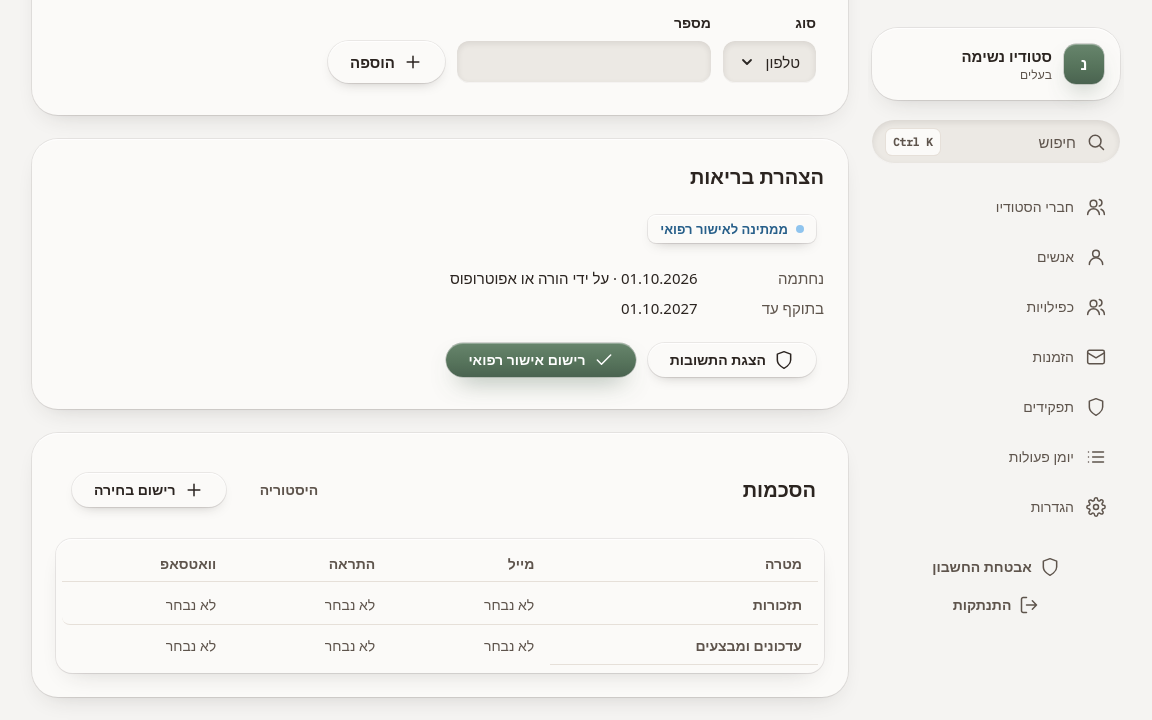
Test: the person card's health declaration (docs/31 sections 5 and 13) › opens the answers only on the click, read-only, and reads them again on every open (each open is audited)
(page scrolled)
Check: the text "ממתינה לאישור רפואי" is shown, box [648,215,816,243]
Check: the element "הצהרת בריאות" shows "על ידי הורה או אפוטרופוס", box [450,268,621,288]
Click the button "הצגת התשובות" at (732, 360), box [648,343,816,377]
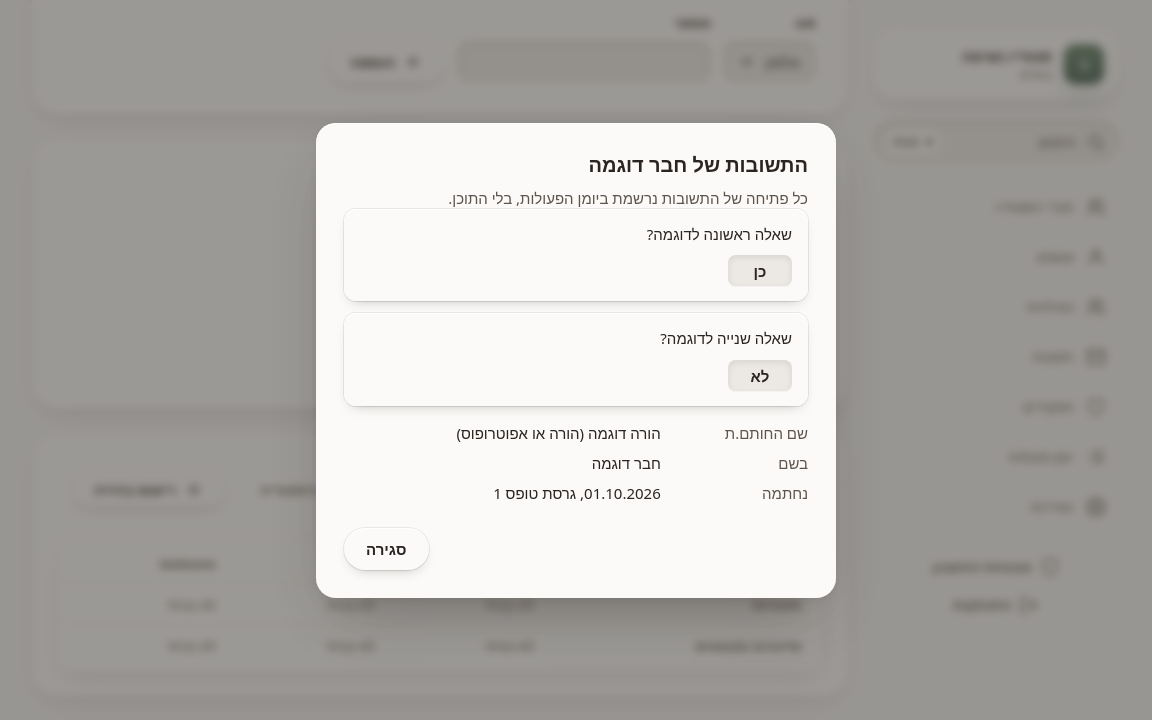
Check: the text "כן" is shown, box [728,255,792,287]
Check: the dialog "התשובות של חבר דוגמה" shows "הורה דוגמה (הורה או אפוטרופוס)", box [316,122,836,598]
Click the button "סגירה" at (386, 548), box [344,528,428,570]
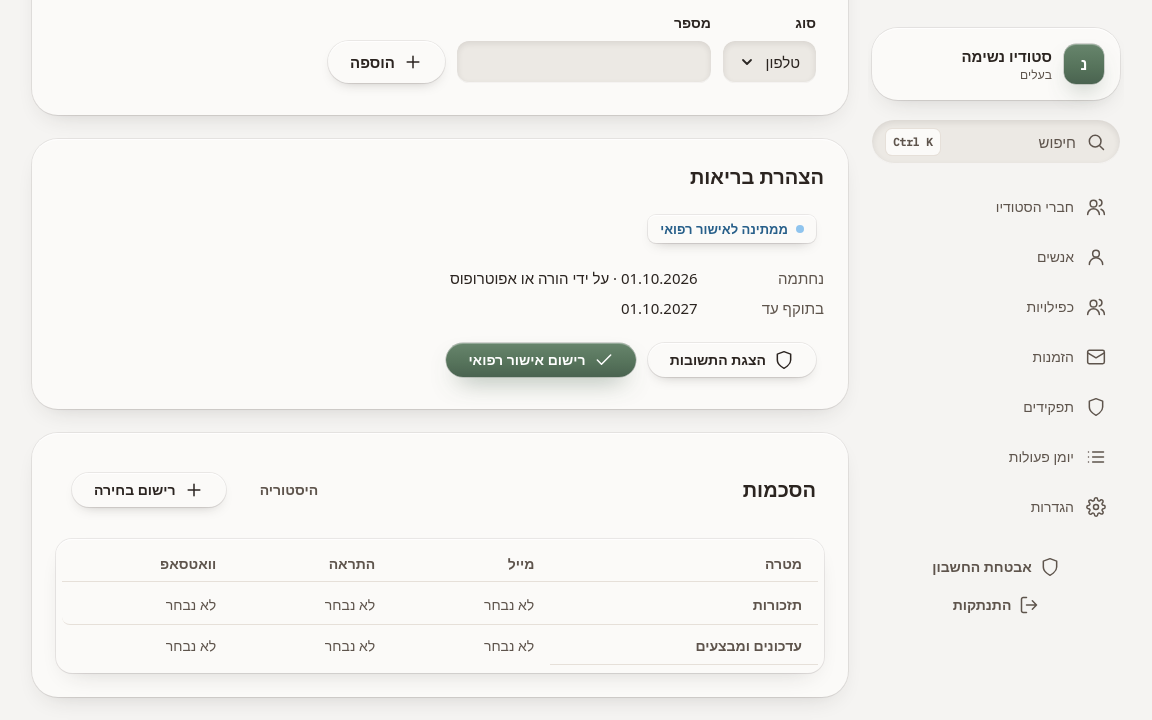
Check: the text "הורה דוגמה (הורה או אפוטרופוס)" is gone
Click the button "הצגת התשובות" at (732, 360), box [648,343,816,377]
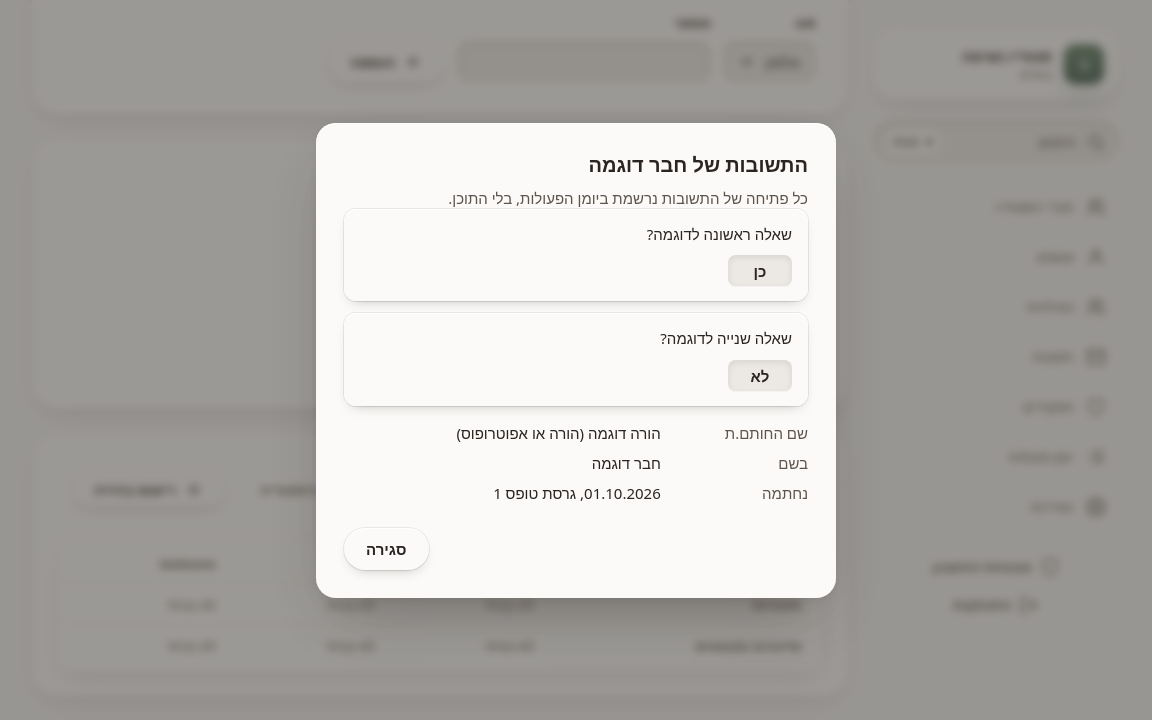
Check: the element named "התשובות" is shown, box [344,208,808,406]
